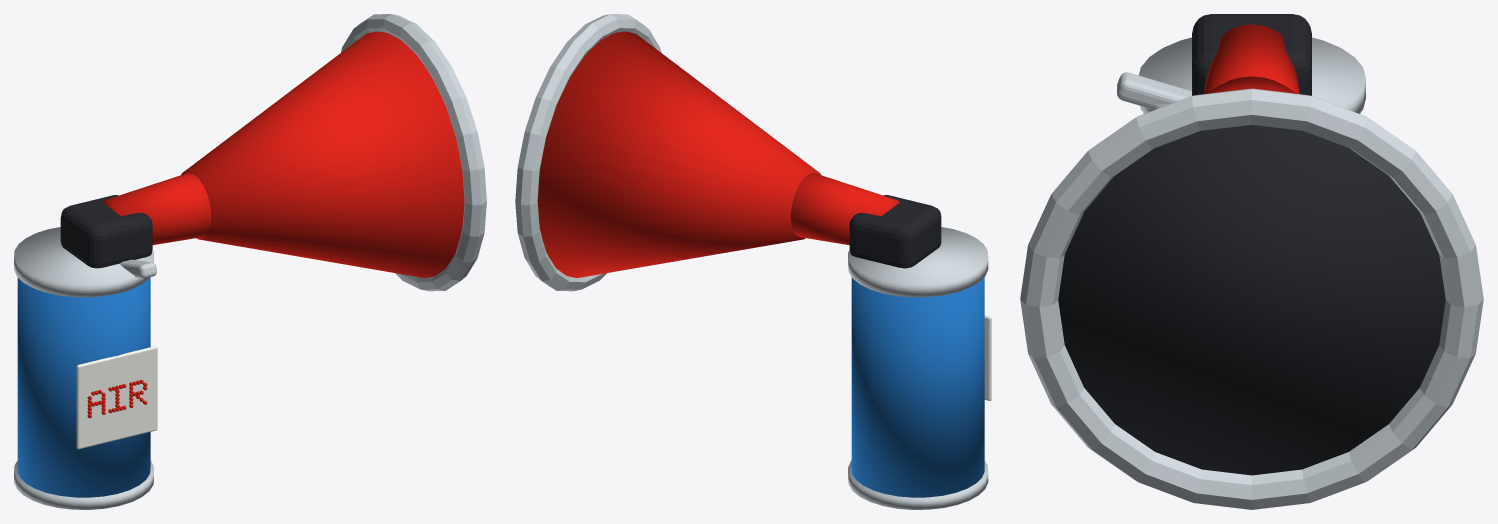
The model's file is horn_air.glb.
3 views of the same model, side by side, from view 1: azimuth 30°, elevation 25°; view 2: azimuth 150°, elevation 25°; view 3: azimuth 270°, elevation 25° (orthographic). The views are drawn at different scales.
Visible parts, largest first — view 1: Horn Bell, Air Canister, Polished Bell Rim, Canister Label, Can Top Rim, Valve Body, Horn Throat, Can Bottom Rim; view 2: Horn Bell, Air Canister, Polished Bell Rim, Can Top Rim, Valve Body, Horn Throat, Can Bottom Rim, Canister Label; view 3: Dark Open Mouth, Polished Bell Rim, Can Top Rim, Valve Body, Horn Throat, Trigger Lever, Horn Bell.
Boxes of the visible parts, x1=… form: Horn Bell: x1=181, y1=31, x2=464, y2=277; Air Canister: x1=17, y1=277, x2=150, y2=497; Polished Bell Rim: x1=340, y1=14, x2=486, y2=291; Canister Label: x1=76, y1=346, x2=157, y2=449; Can Top Rim: x1=14, y1=227, x2=153, y2=297; Valve Body: x1=60, y1=195, x2=152, y2=268; Horn Throat: x1=102, y1=173, x2=211, y2=244; Can Bottom Rim: x1=14, y1=460, x2=153, y2=509; Horn Bell: x1=537, y1=31, x2=820, y2=277; Air Canister: x1=851, y1=277, x2=984, y2=497; Polished Bell Rim: x1=515, y1=14, x2=661, y2=291; Can Top Rim: x1=848, y1=227, x2=988, y2=297; Valve Body: x1=849, y1=195, x2=941, y2=268; Horn Throat: x1=791, y1=173, x2=899, y2=245; Can Bottom Rim: x1=848, y1=460, x2=988, y2=509; Canister Label: x1=984, y1=315, x2=991, y2=400; Dark Open Mouth: x1=1058, y1=125, x2=1445, y2=475; Polished Bell Rim: x1=1020, y1=88, x2=1483, y2=509; Can Top Rim: x1=1139, y1=37, x2=1365, y2=113; Valve Body: x1=1192, y1=14, x2=1311, y2=95; Horn Throat: x1=1204, y1=24, x2=1299, y2=93; Trigger Lever: x1=1117, y1=72, x2=1191, y2=109; Horn Bell: x1=1207, y1=76, x2=1296, y2=93.
Size of the model in its own units: 3.85 by 3.5 by 2.4.
